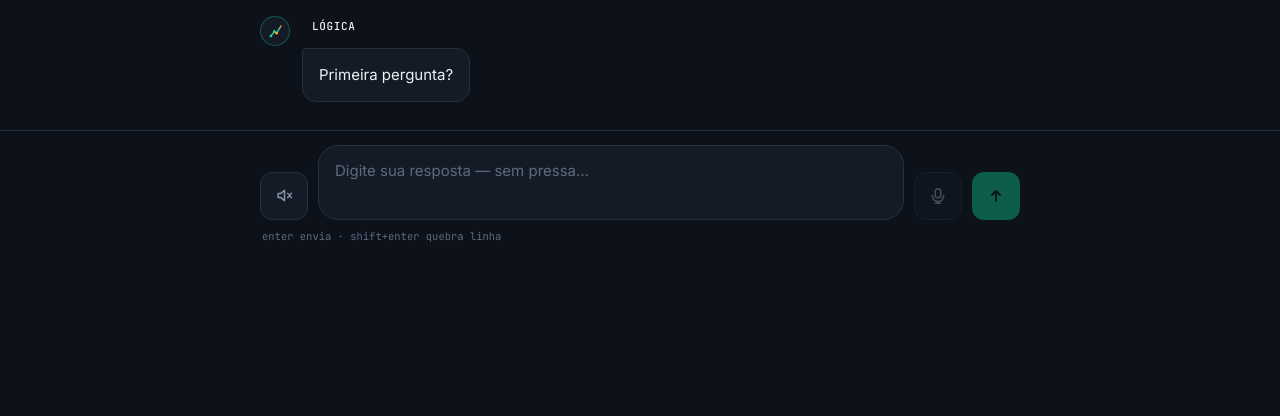
Test case: InterviewPage — send() › sucesso limpa o draft e atualiza a pergunta certa localmente
Expected: the text "Primeira pergunta?" is shown, [302, 48, 470, 102]
Expected: the text "Segunda pergunta?" is not shown
Type "resposta boa" into the text box labelled "sua resposta".
click(611, 182); type("resposta boa")  # box [318, 145, 904, 220]
Then press Enter
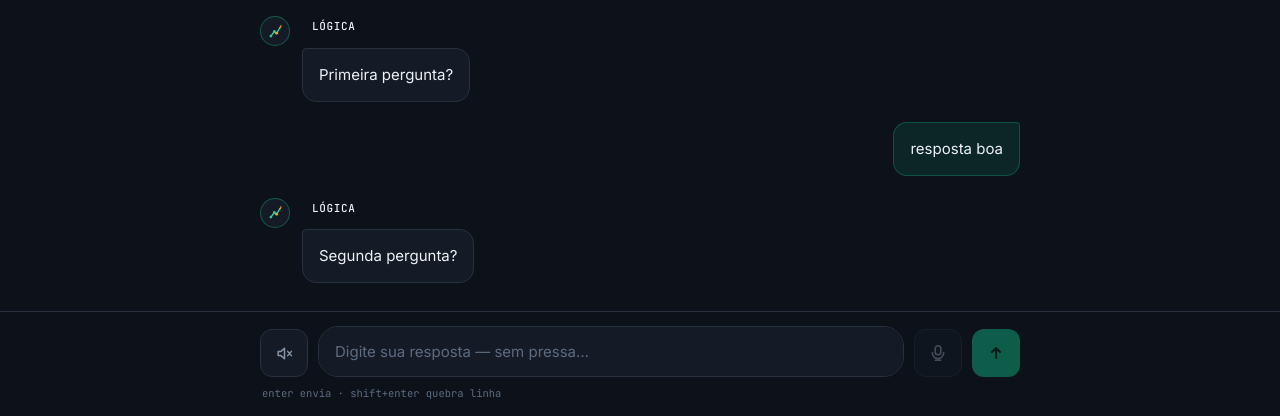
Expected: the text box labelled "sua resposta" is empty, [318, 326, 904, 377]
Result: the text "resposta boa" is shown at [894, 122, 1020, 176]
Result: the text "Segunda pergunta?" is shown at [302, 229, 474, 283]
